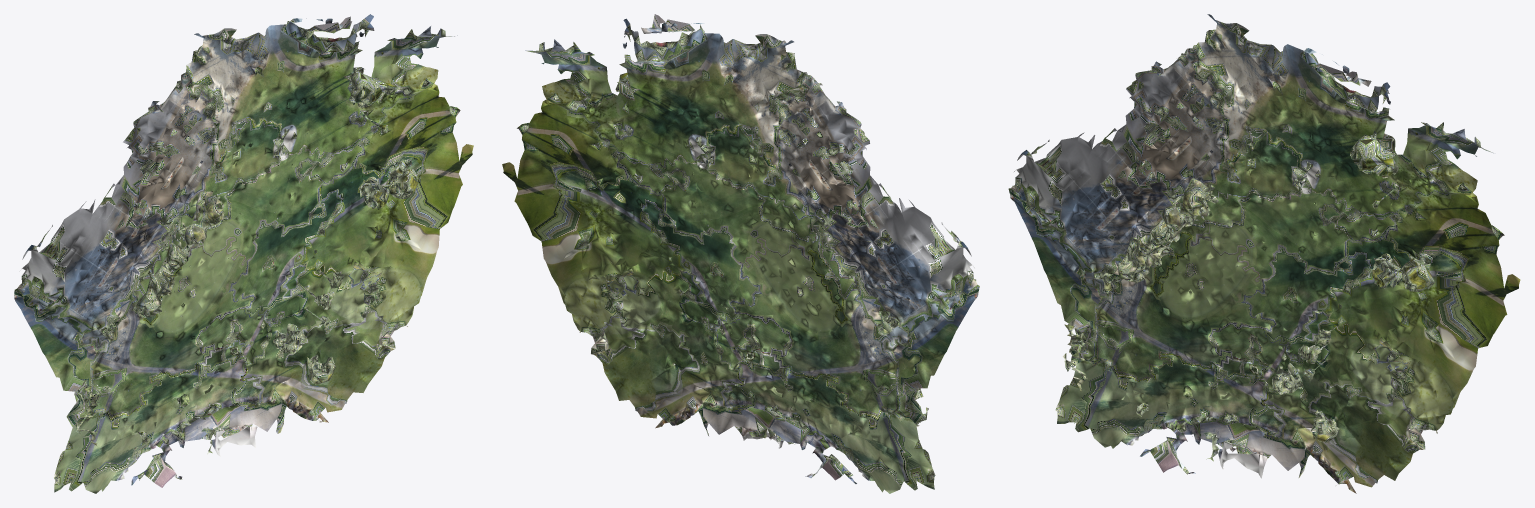
Rendered from putting_green.glb.
3 renders of one model, left to right at view 1: azimuth 30°, elevation 25°; view 2: azimuth 150°, elevation 25°; view 3: azimuth 330°, elevation 25°, orthographic. The views are drawn at different scales.
Size of the model in its own units: 25 by 22.32 by 2.7.
Materials: 1 (1 with a texture image).
